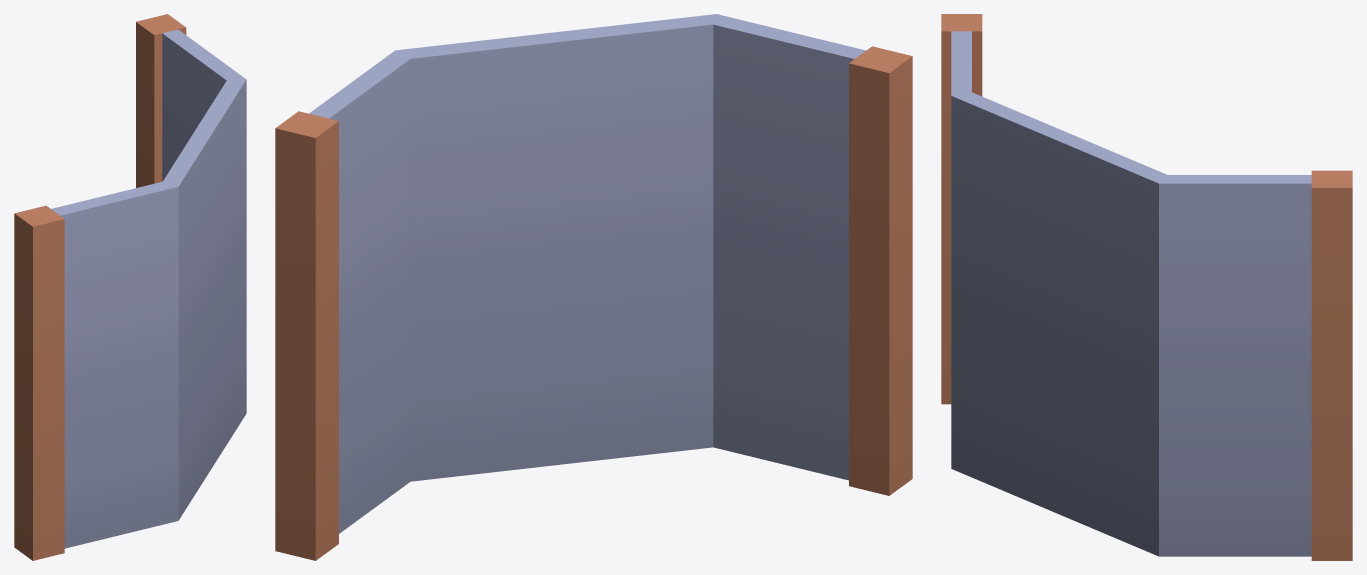
The model's file is wall-corner-diagonal.glb.
The picture shows the model from 3 angles, left to right: view 1: azimuth 30°, elevation 25°; view 2: azimuth 150°, elevation 25°; view 3: azimuth 270°, elevation 25°; orthographic projection. The views are drawn at different scales.
Parts seen in each view (by area): view 1: wall-corner-diagonal; view 2: wall-corner-diagonal; view 3: wall-corner-diagonal.
Part boxes in pixels (box(x1,y1,x2,y2)): wall-corner-diagonal: box(14, 14, 246, 560); wall-corner-diagonal: box(275, 14, 912, 560); wall-corner-diagonal: box(941, 14, 1352, 560).
Size of the model in its own units: 1 by 1 by 1.
1 material, 1 textured.
